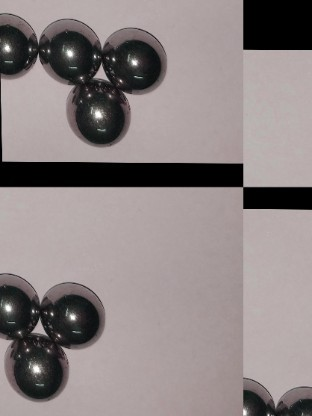ironball: (62, 80, 138, 151), (104, 25, 175, 99), (36, 278, 104, 354), (4, 338, 85, 399), (36, 21, 105, 83), (0, 269, 43, 338), (0, 10, 41, 78), (242, 370, 270, 414), (274, 380, 310, 414)
